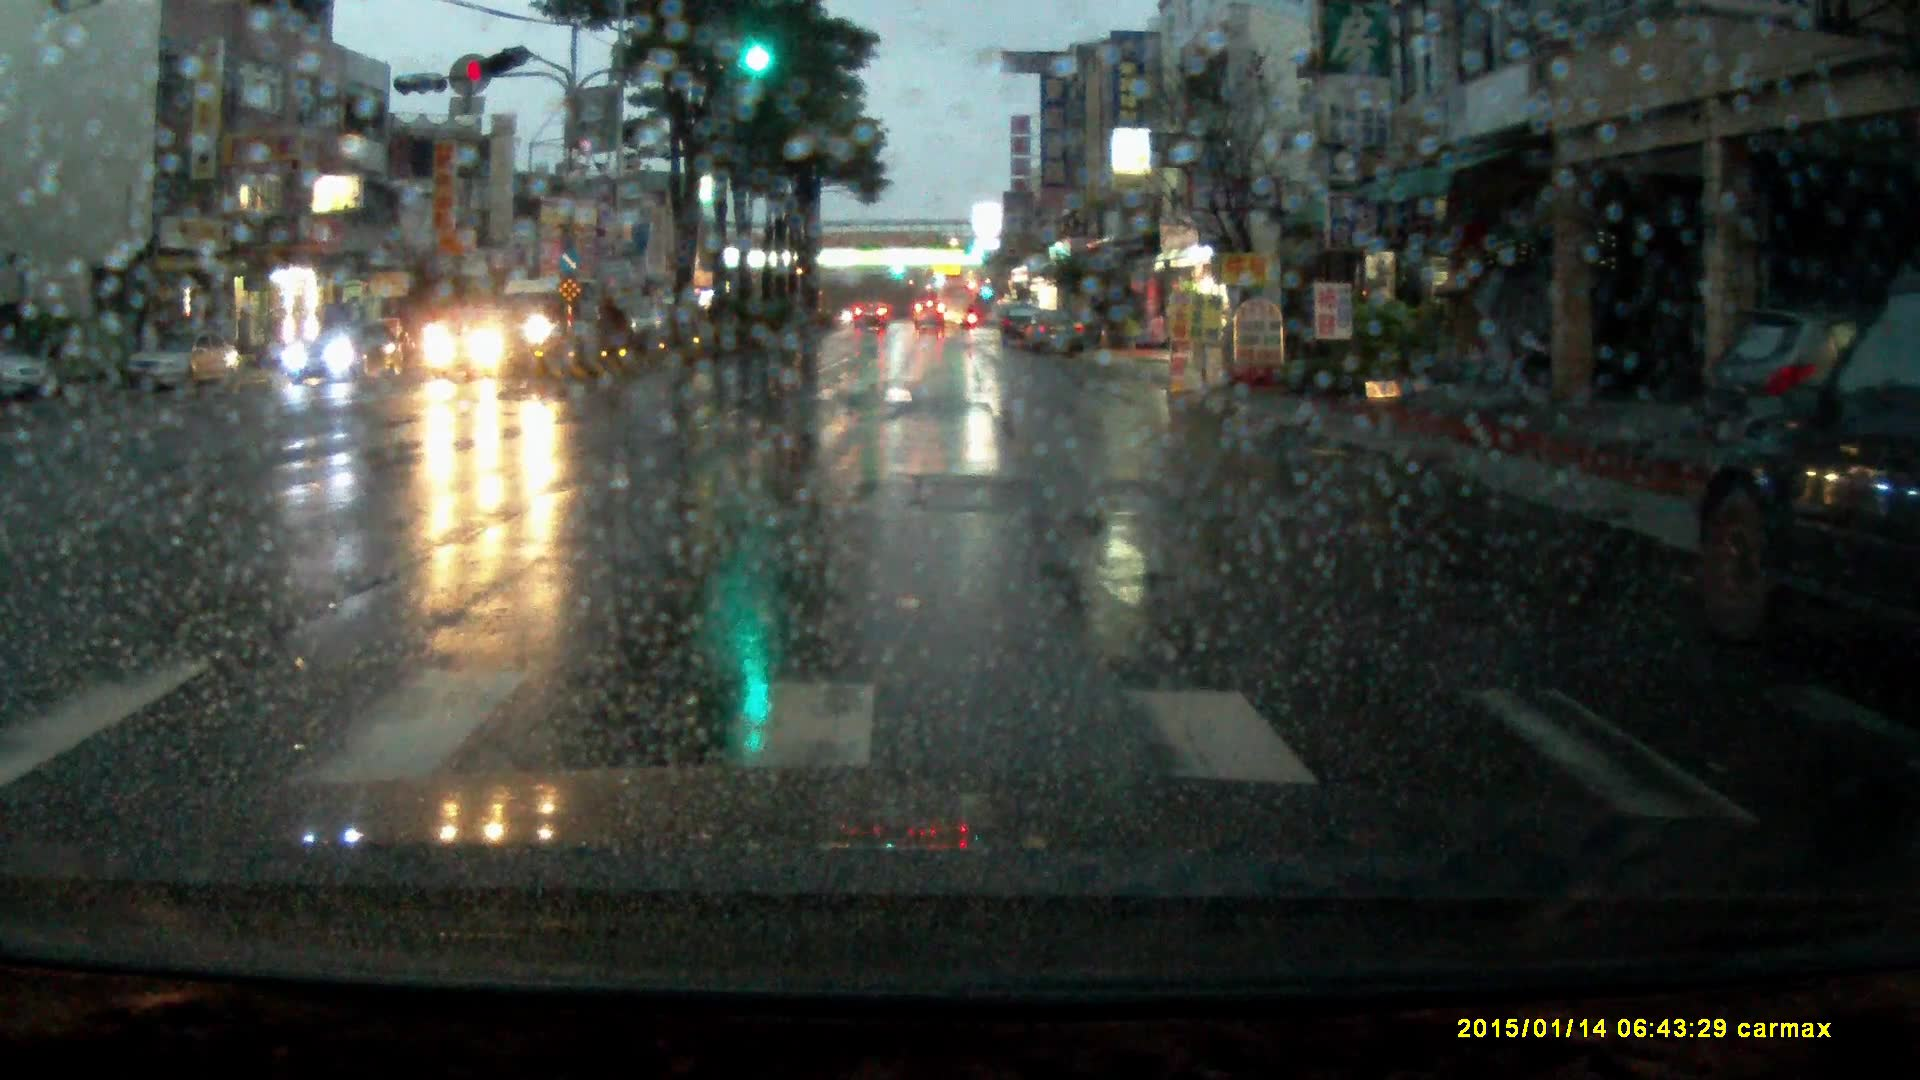vehicle: (1698, 305, 1920, 680), (1692, 309, 1873, 467), (483, 272, 600, 357), (280, 316, 411, 382), (121, 327, 241, 398), (426, 310, 535, 382), (1023, 307, 1091, 360), (1, 353, 49, 397), (1000, 302, 1040, 349), (940, 280, 978, 330), (853, 295, 889, 331), (914, 299, 947, 332)
